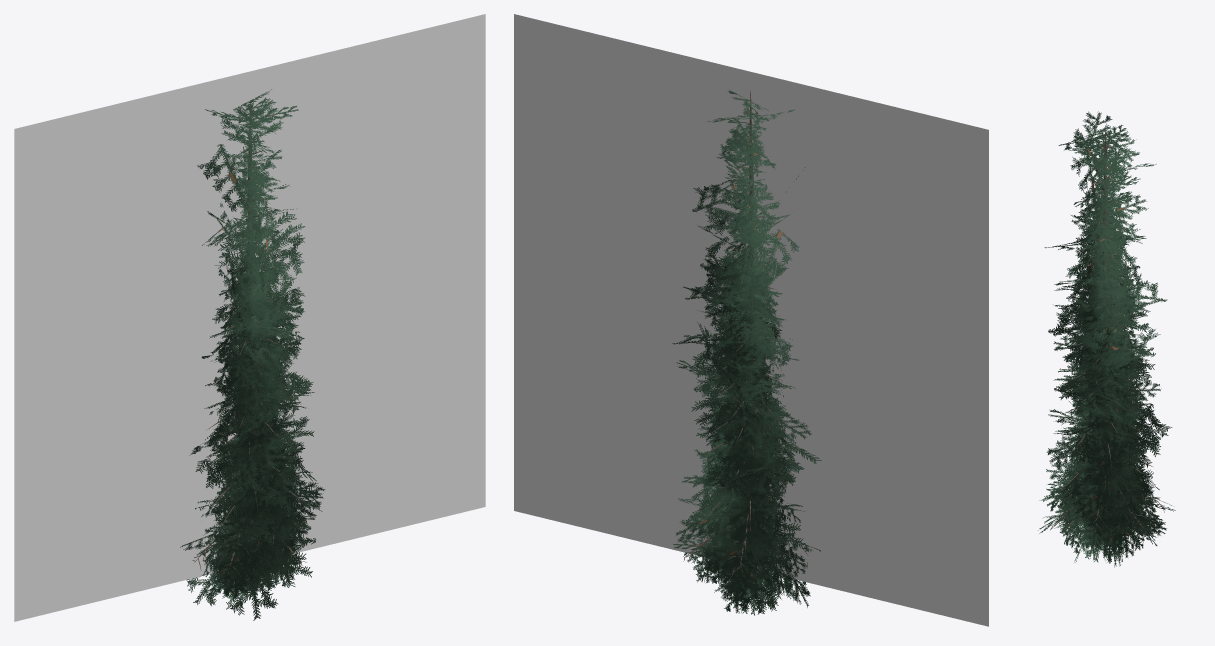
Rendered from epicea_adulte_b.fbx.
The picture shows the model from 3 angles, left to right: view 1: azimuth 30°, elevation 25°; view 2: azimuth 150°, elevation 25°; view 3: azimuth 270°, elevation 25°; orthographic projection. The views are drawn at different scales.
Visible parts, largest first — view 1: epicea_adulte_b_LOD3, epicea_adulte_b_LOD2, epicea_adulte_b_LOD1; view 2: epicea_adulte_b_LOD3, epicea_adulte_b_LOD2, epicea_adulte_b_LOD1; view 3: epicea_adulte_b_LOD1, epicea_adulte_b_LOD2.
Part boxes in pixels (bbox=[...]): epicea_adulte_b_LOD3: bbox=[14, 14, 485, 621]; epicea_adulte_b_LOD2: bbox=[186, 89, 317, 620]; epicea_adulte_b_LOD1: bbox=[180, 98, 325, 597]; epicea_adulte_b_LOD3: bbox=[514, 14, 988, 626]; epicea_adulte_b_LOD2: bbox=[672, 90, 821, 615]; epicea_adulte_b_LOD1: bbox=[673, 92, 820, 613]; epicea_adulte_b_LOD1: bbox=[1046, 111, 1175, 557]; epicea_adulte_b_LOD2: bbox=[1038, 129, 1172, 567].
Size of what is drawn, in the model's own units: 27.77 by 30.5 by 10.94.
